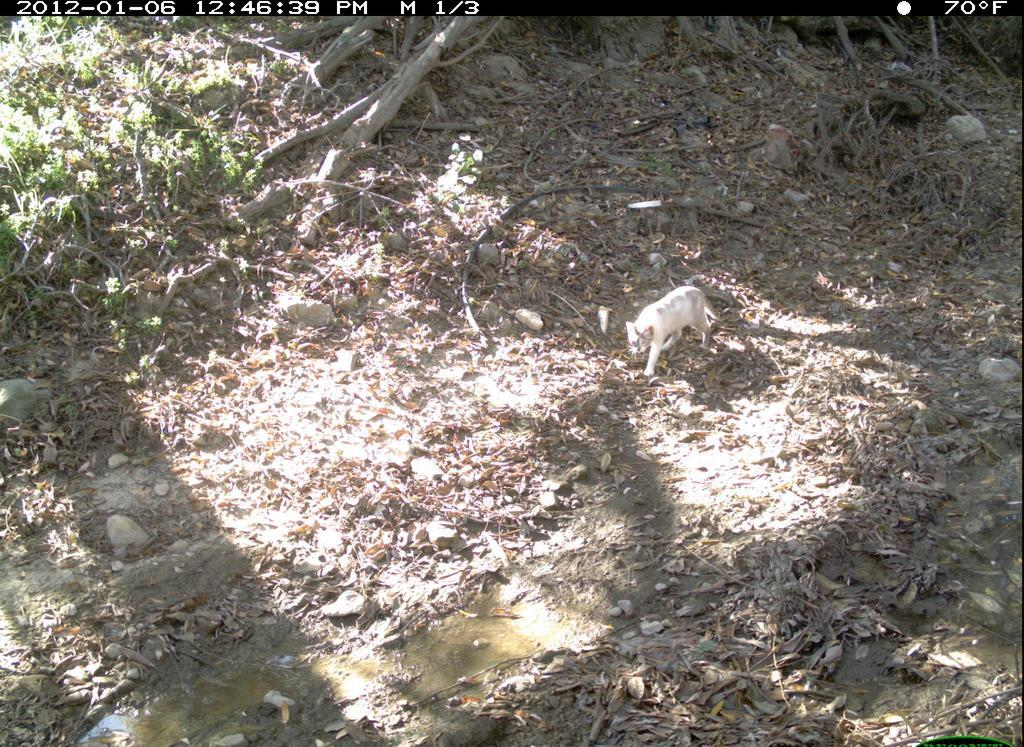cat: (622, 282, 730, 383)
